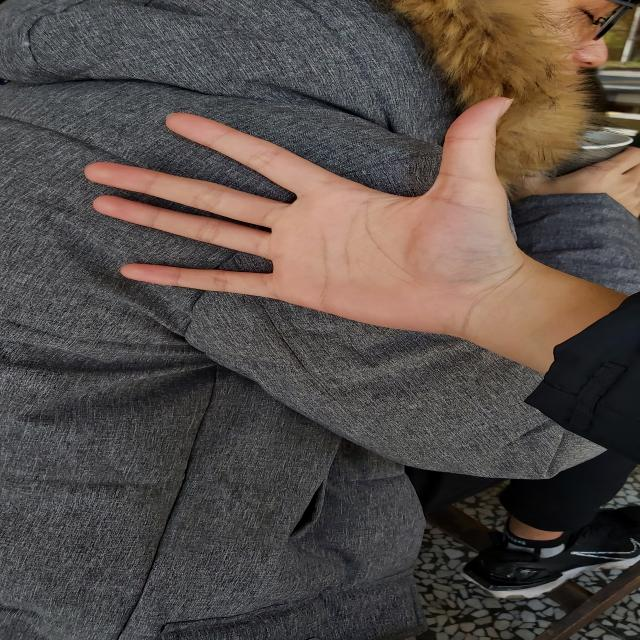no_glove: (71, 90, 552, 360)
